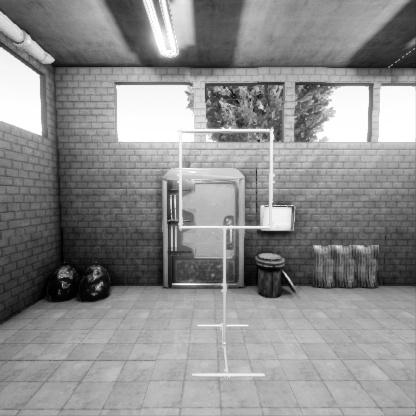gate: (177, 190, 279, 292)
